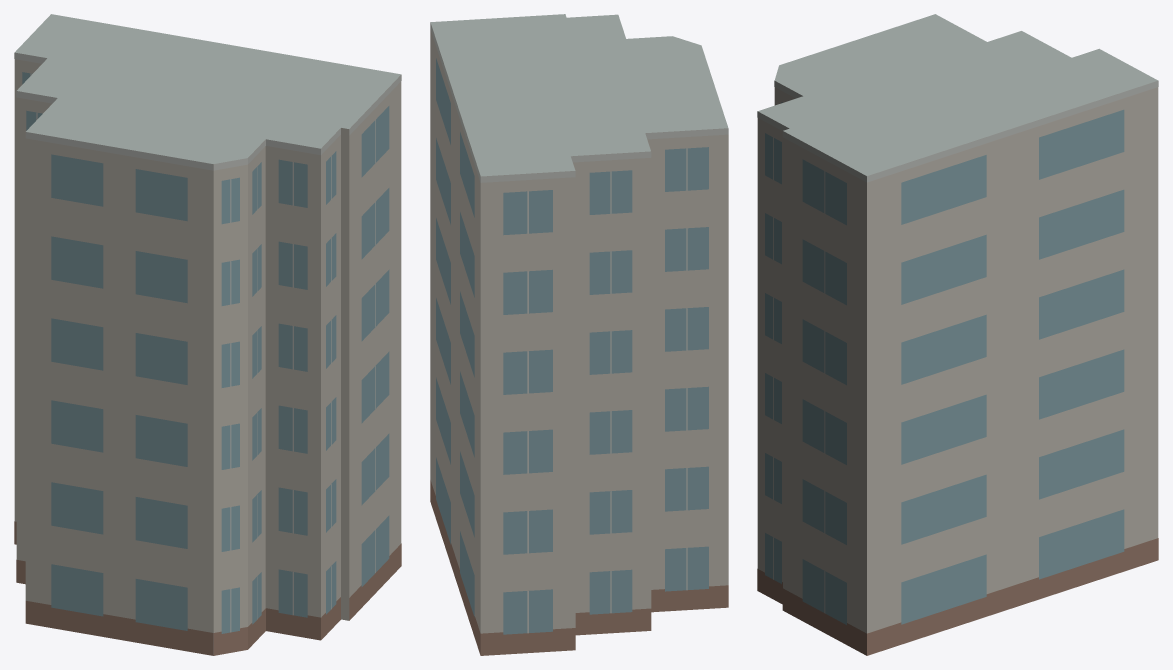
The model's file is survey-upis-33010327.glb.
The picture shows the model from 3 angles, left to right: view 1: azimuth 30°, elevation 25°; view 2: azimuth 150°, elevation 25°; view 3: azimuth 270°, elevation 25°; orthographic projection. The views are drawn at different scales.
Parts seen in each view (by area): view 1: survey-upis-33010327.tmp; view 2: survey-upis-33010327.tmp; view 3: survey-upis-33010327.tmp.
Part boxes in pixels (box(x1,y1,x2,y2)): survey-upis-33010327.tmp: box(14, 14, 401, 655); survey-upis-33010327.tmp: box(430, 14, 728, 655); survey-upis-33010327.tmp: box(757, 14, 1158, 655).
Bounding box in the file's own units: 13.28 × 18.3 × 13.87.
